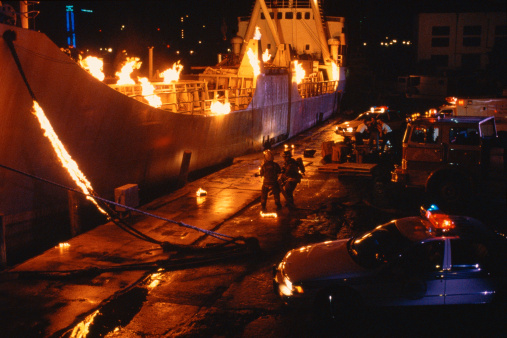car: (266, 200, 504, 326)
